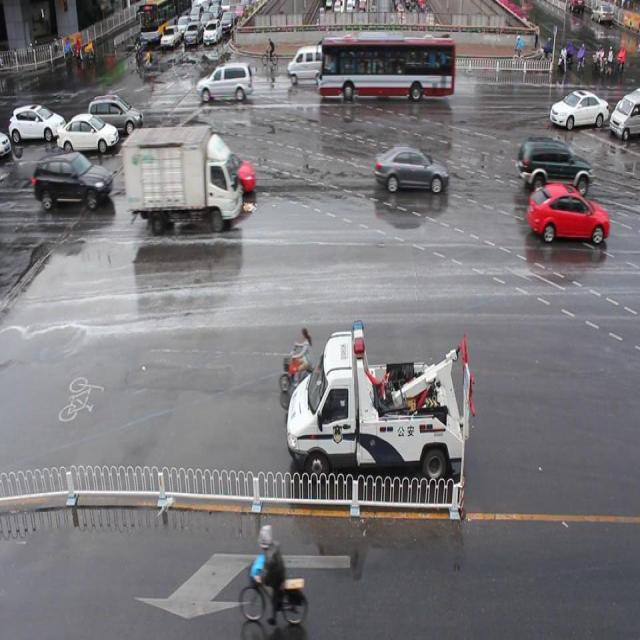bus: (125, 126, 240, 232)
car: (524, 180, 608, 244), (516, 135, 592, 193), (373, 143, 448, 197), (180, 145, 256, 195), (548, 87, 606, 129)
truck: (198, 62, 252, 103), (285, 45, 328, 83)
van: (319, 37, 453, 104)
